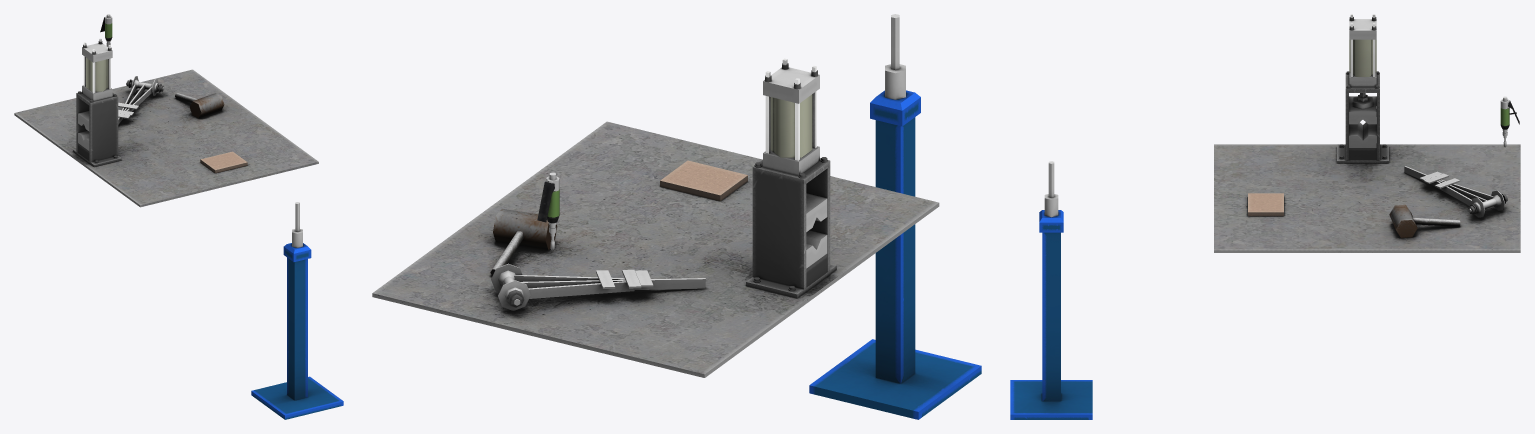
Rendered from Mesa alineacion horquilla.FBX.
The picture shows the model from 3 angles, left to right: view 1: azimuth 30°, elevation 25°; view 2: azimuth 150°, elevation 25°; view 3: azimuth 270°, elevation 25°; orthographic projection. The views are drawn at different scales.
Parts seen in each view (by area): view 1: Mesa_agujeros, Soporte Horquilla, Base_maquina_sostenedora, Buje test Horquilla, Mango maso, Pieza_Posterior_001, Base_para_martillar, Cilindro_Pieza_Posterior_001, Pieza_Posterior_Detal_001; view 2: Mesa_agujeros, Soporte Horquilla, Base_maquina_sostenedora, Buje test Horquilla, Pieza_Posterior_001, Base_para_martillar, Mango maso, Cilindro_Pieza_Posterior_001, Pieza_Posterior_Detal_001, amoladora, Prensa 002, Prensa 001; view 3: Mesa_agujeros, Soporte Horquilla, Buje test Horquilla, Base_maquina_sostenedora, Mango maso, Cilindro_Pieza_Posterior_001, Base_para_martillar, Pieza_Posterior_001, Prensa 001, Prensa 002.
Boxes of the visible parts, x1=… form: Mesa_agujeros: x1=14, y1=69, x2=318, y2=207; Soporte Horquilla: x1=251, y1=202, x2=343, y2=419; Base_maquina_sostenedora: x1=73, y1=92, x2=121, y2=166; Buje test Horquilla: x1=118, y1=76, x2=164, y2=124; Mango maso: x1=175, y1=93, x2=224, y2=118; Pieza_Posterior_001: x1=82, y1=43, x2=112, y2=101; Base_para_martillar: x1=200, y1=151, x2=247, y2=173; Cilindro_Pieza_Posterior_001: x1=86, y1=57, x2=108, y2=91; Pieza_Posterior_Detal_001: x1=83, y1=38, x2=110, y2=93; Mesa_agujeros: x1=372, y1=121, x2=939, y2=377; Soporte Horquilla: x1=809, y1=14, x2=981, y2=419; Base_maquina_sostenedora: x1=746, y1=158, x2=836, y2=298; Buje test Horquilla: x1=491, y1=263, x2=705, y2=310; Pieza_Posterior_001: x1=763, y1=67, x2=819, y2=175; Base_para_martillar: x1=660, y1=160, x2=747, y2=201; Mango maso: x1=490, y1=208, x2=557, y2=275; Cilindro_Pieza_Posterior_001: x1=770, y1=94, x2=812, y2=157; Pieza_Posterior_Detal_001: x1=765, y1=58, x2=816, y2=160; amoladora: x1=537, y1=172, x2=559, y2=250; Prensa 002: x1=806, y1=230, x2=827, y2=268; Prensa 001: x1=806, y1=193, x2=827, y2=231; Mesa_agujeros: x1=1214, y1=144, x2=1520, y2=252; Soporte Horquilla: x1=1010, y1=161, x2=1092, y2=419; Buje test Horquilla: x1=1404, y1=166, x2=1507, y2=217; Base_maquina_sostenedora: x1=1337, y1=72, x2=1388, y2=163; Mango maso: x1=1389, y1=204, x2=1460, y2=238; Cilindro_Pieza_Posterior_001: x1=1349, y1=39, x2=1376, y2=76; Base_para_martillar: x1=1248, y1=193, x2=1283, y2=216; Pieza_Posterior_001: x1=1349, y1=19, x2=1376, y2=86; Prensa 001: x1=1349, y1=93, x2=1376, y2=124; Prensa 002: x1=1349, y1=122, x2=1376, y2=147.
Size of the model in its own units: 0.9 by 1.35 by 1.83.
1 material, 1 textured.
